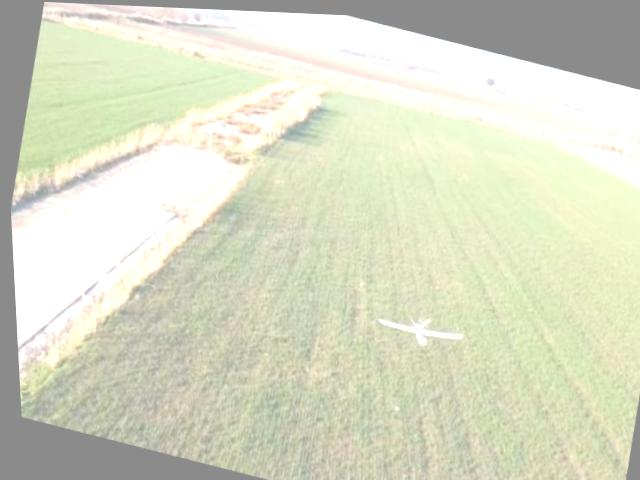uav: (372, 301, 461, 355)
